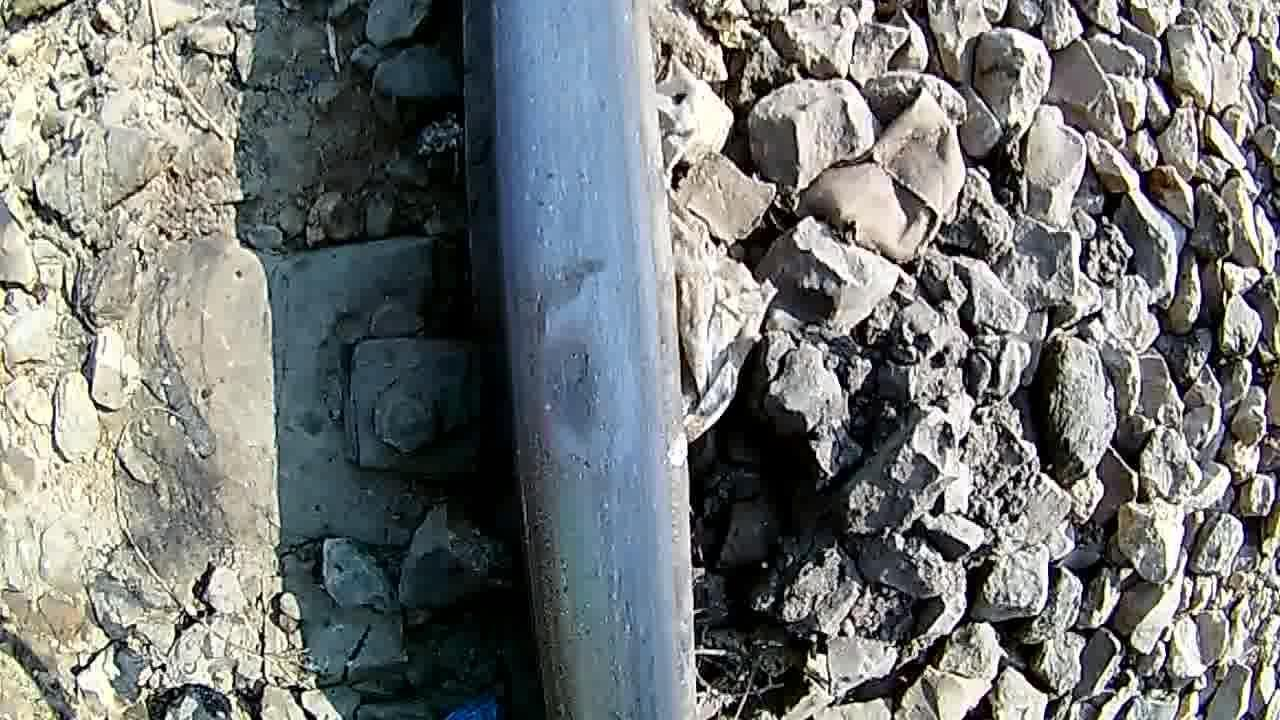crack: (496, 106, 646, 559)
